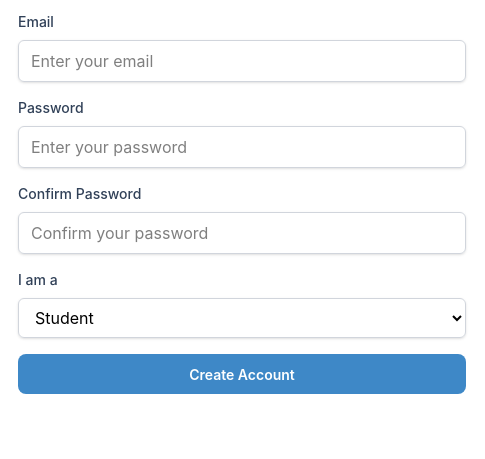
Test: RegisterForm › shows validation error when passwords do not match
Type "Password123" into the password field labelled "Password" at (242, 147), box [18, 126, 466, 168]
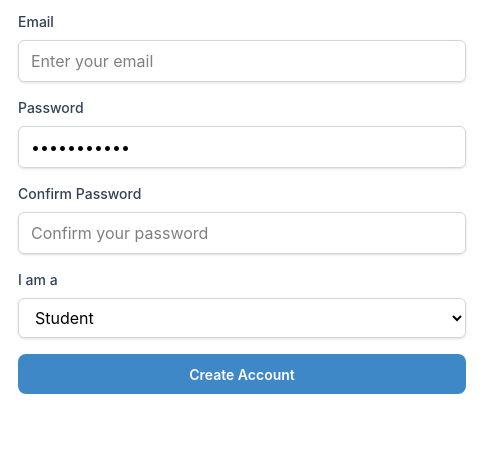
Type "DifferentPassword123" into the password field labelled "Confirm Password" at (242, 233), box [18, 212, 466, 254]
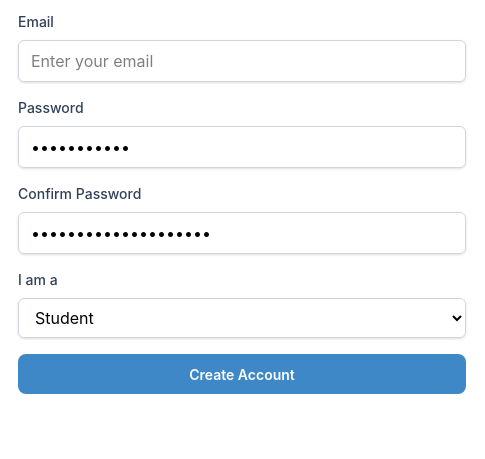
Click the button "Create Account" at (242, 374), box [18, 354, 466, 394]
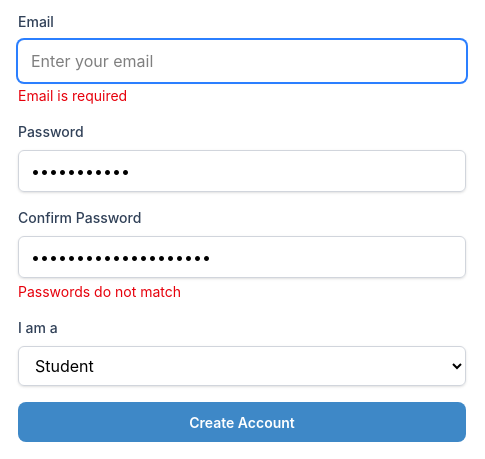
Result: the text "Passwords do not match" is shown at [18, 283, 181, 300]
